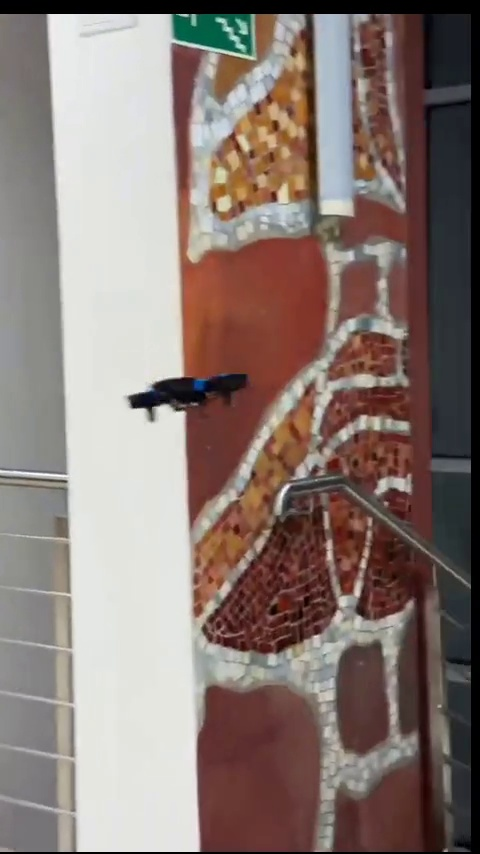drone: (128, 378, 253, 423)
